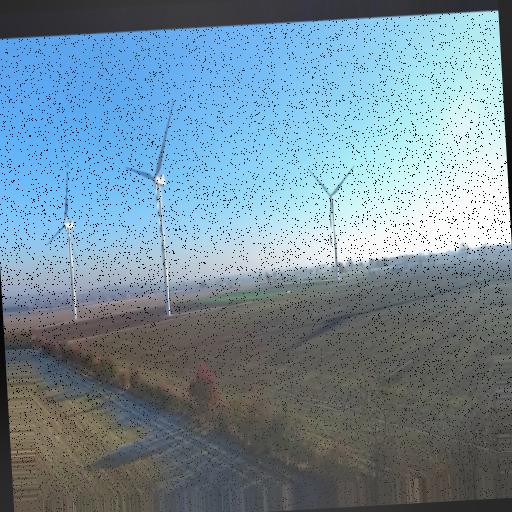wind turbine: (125, 102, 180, 312), (42, 170, 86, 319), (307, 164, 357, 276)
